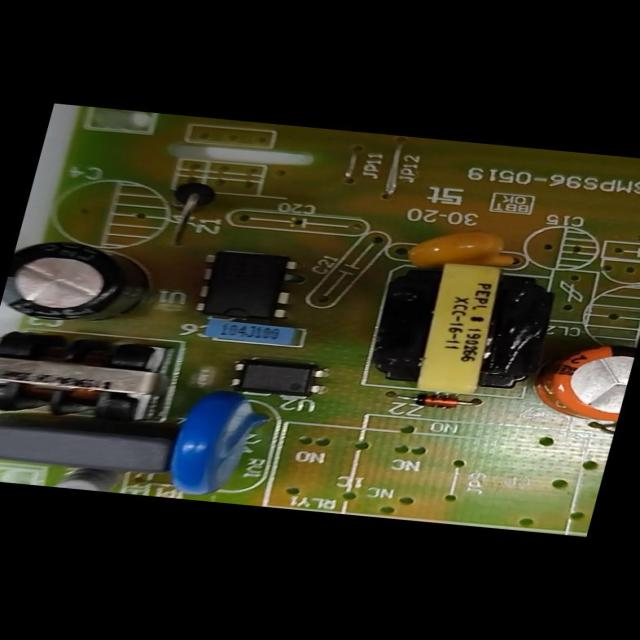Cap1: (528, 338, 636, 422)
Cap3: (0, 241, 164, 328)
MOSFET: (187, 248, 300, 324)
Mov: (158, 394, 274, 501)
Resistor: (50, 463, 126, 493)
Transformer: (367, 262, 562, 403), (0, 330, 172, 424)
